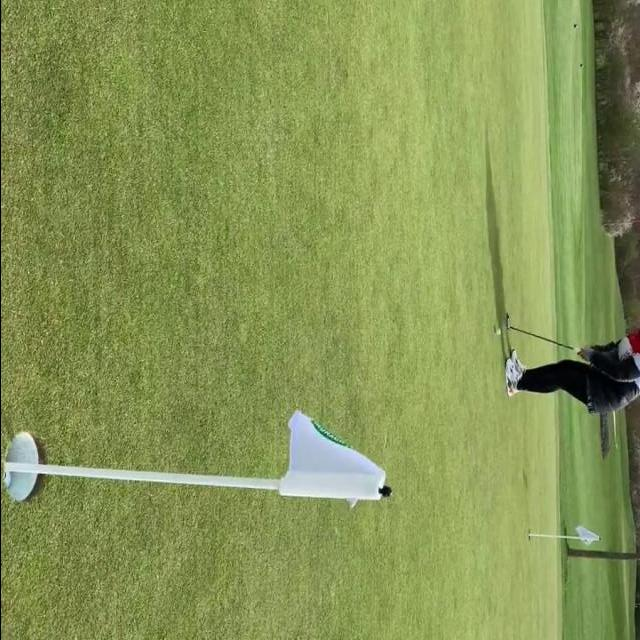golf ball: (494, 328, 500, 334)
golf club-handle: (504, 311, 583, 356)
golf club-head: (505, 313, 509, 331)
